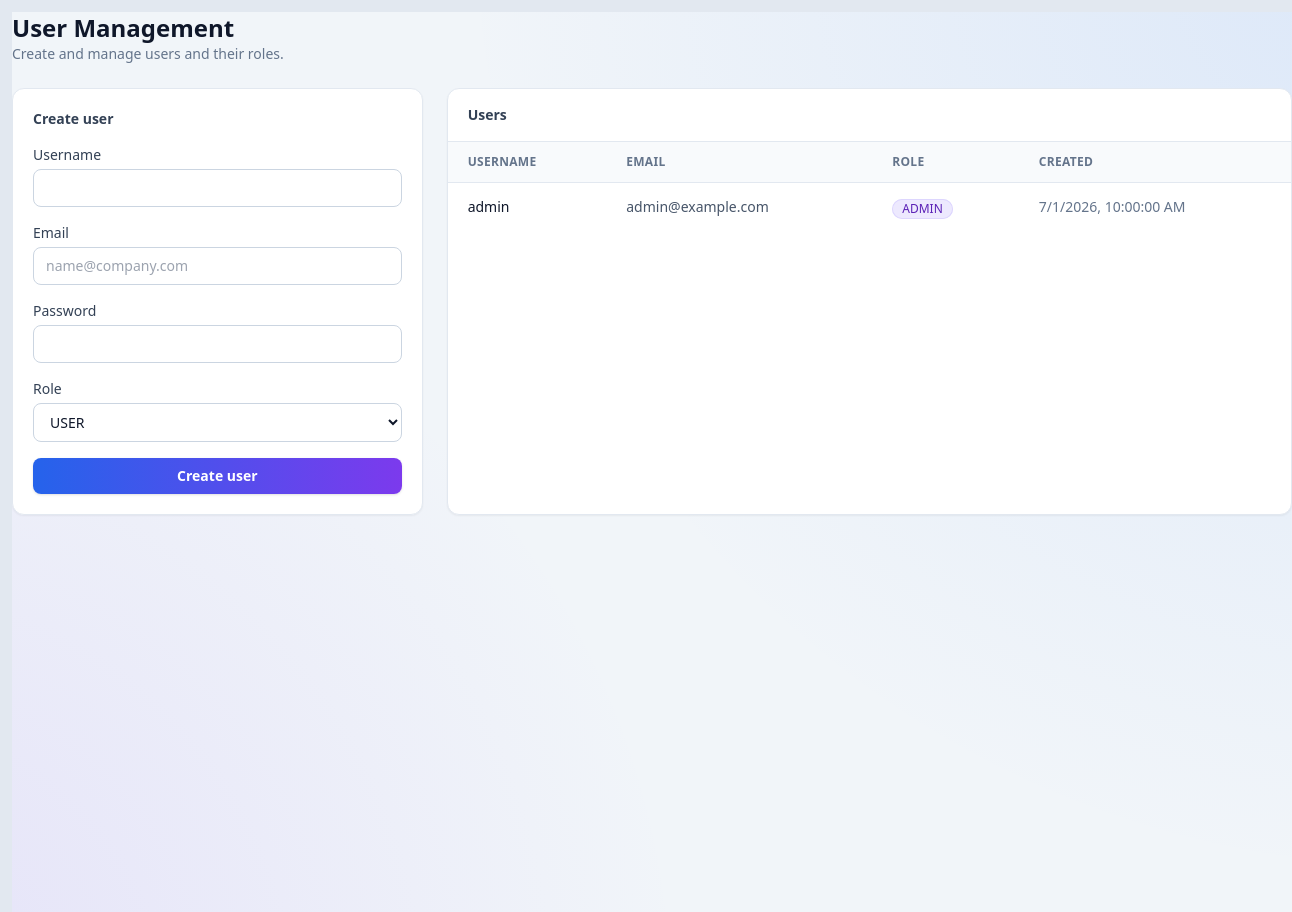
Scenario: UsersPage › validates username, email and password before creating
Type "ab" into the field labelled "Username" at (217,188), box [33,169,402,207]
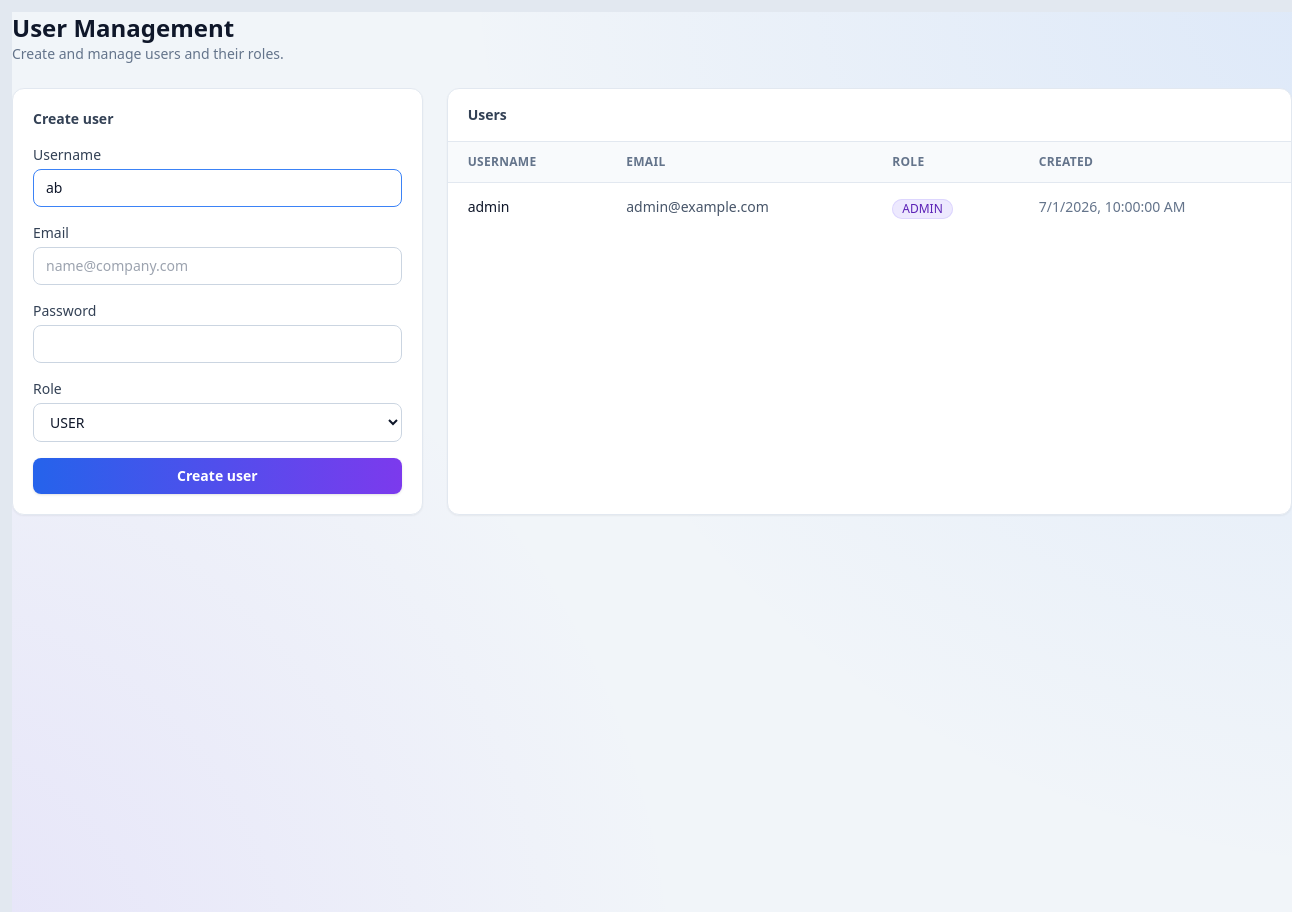
Type "123" into the password field labelled "Password" at (217,344), box [33,325,402,363]
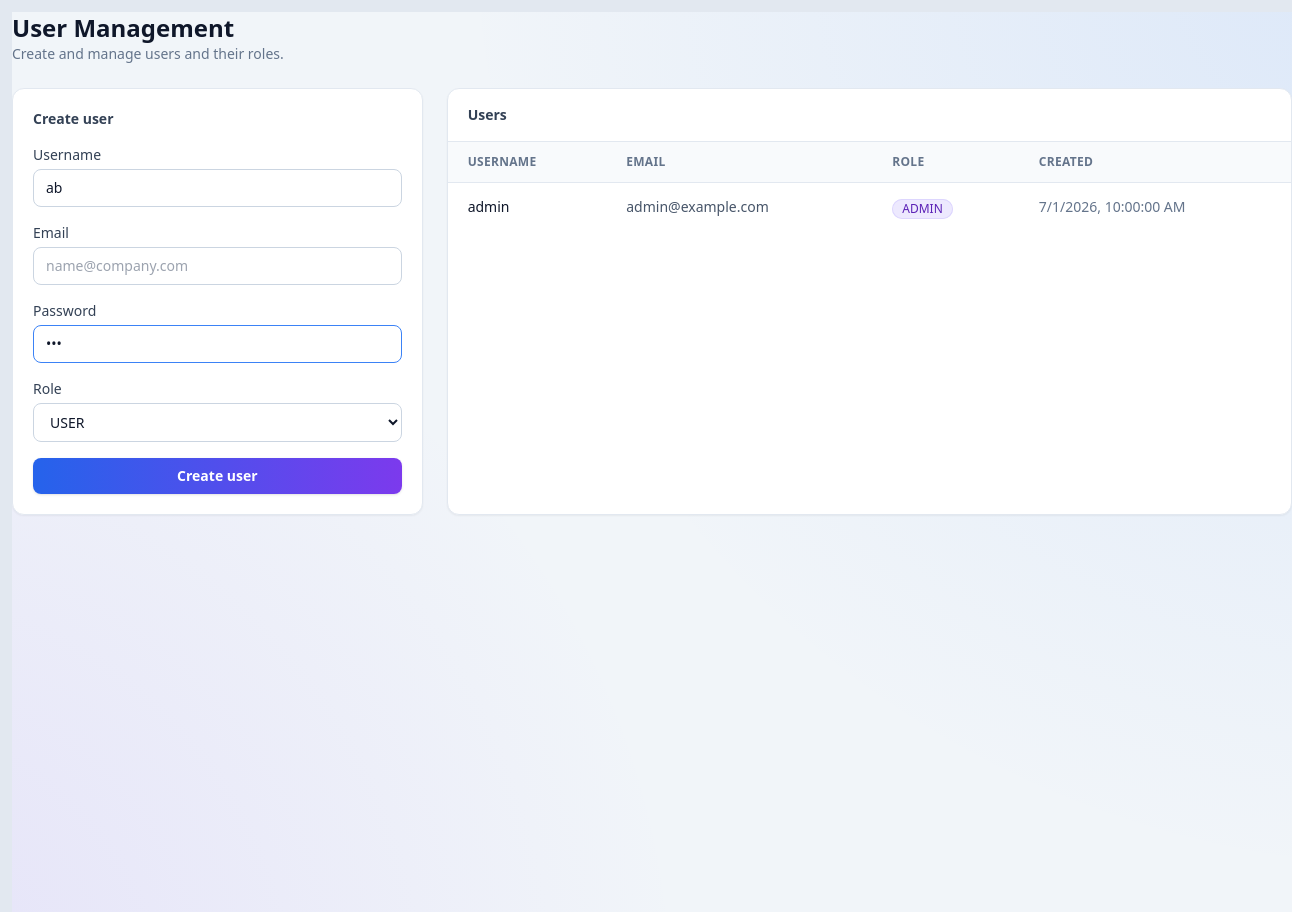
Click the button "Create user" at (217,476), box [33,458,402,494]
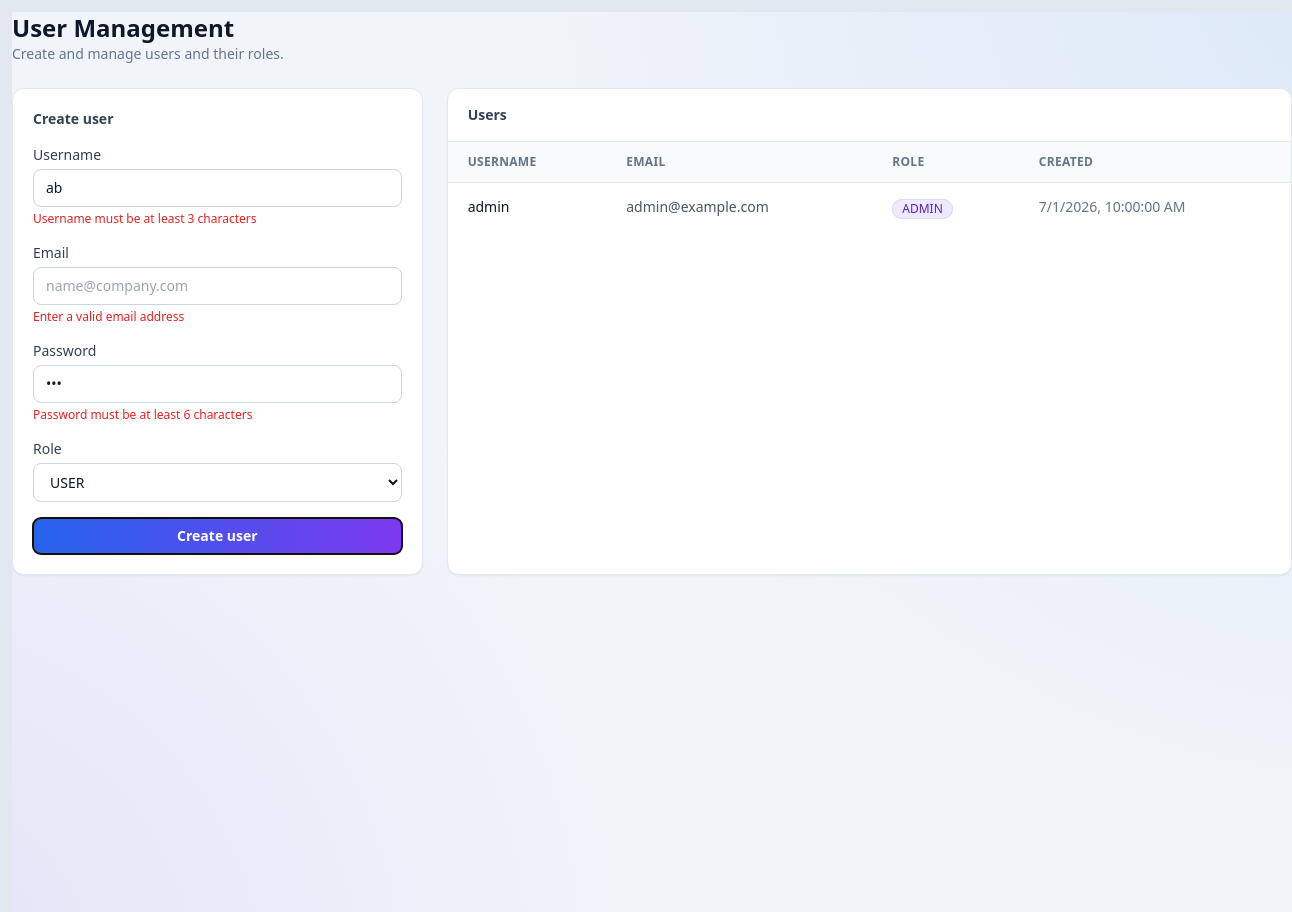
Expected: the text "Username must be at least 3 characters" is shown, [33,210,256,227]
Expected: the text "Enter a valid email address" is shown, [33,308,184,325]
Expected: the text "Password must be at least 6 characters" is shown, [33,406,252,423]
